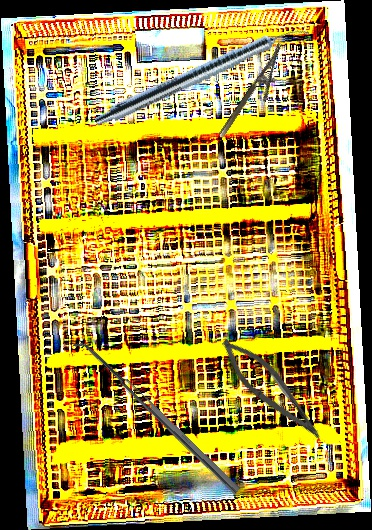Handpiece: (92, 16, 311, 134)
Micro Scissor: (211, 330, 335, 448)
Needle Holder: (216, 42, 298, 147)
Spatula Surgical: (70, 335, 241, 501)
